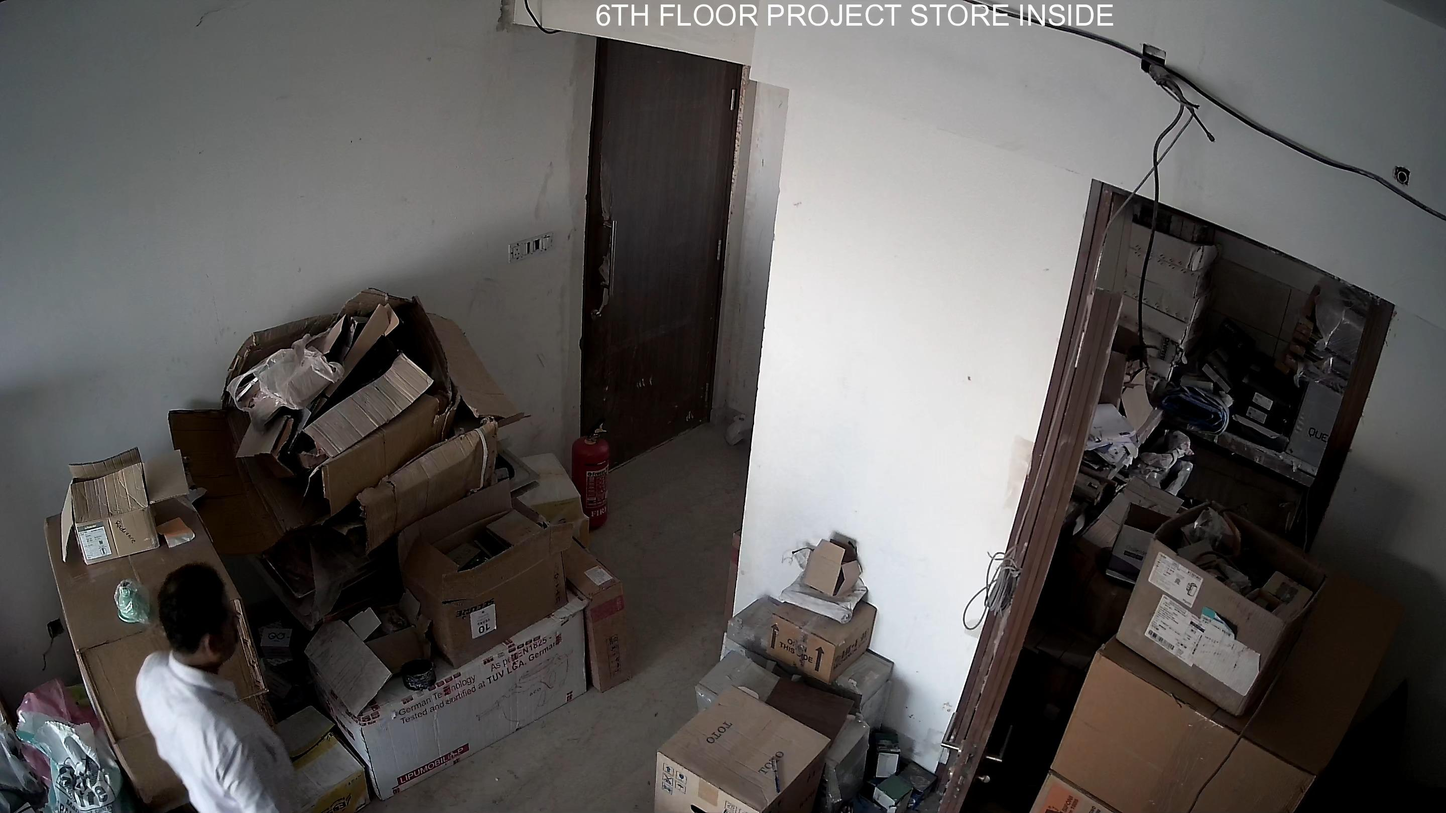Door-Close: (552, 29, 752, 488)
